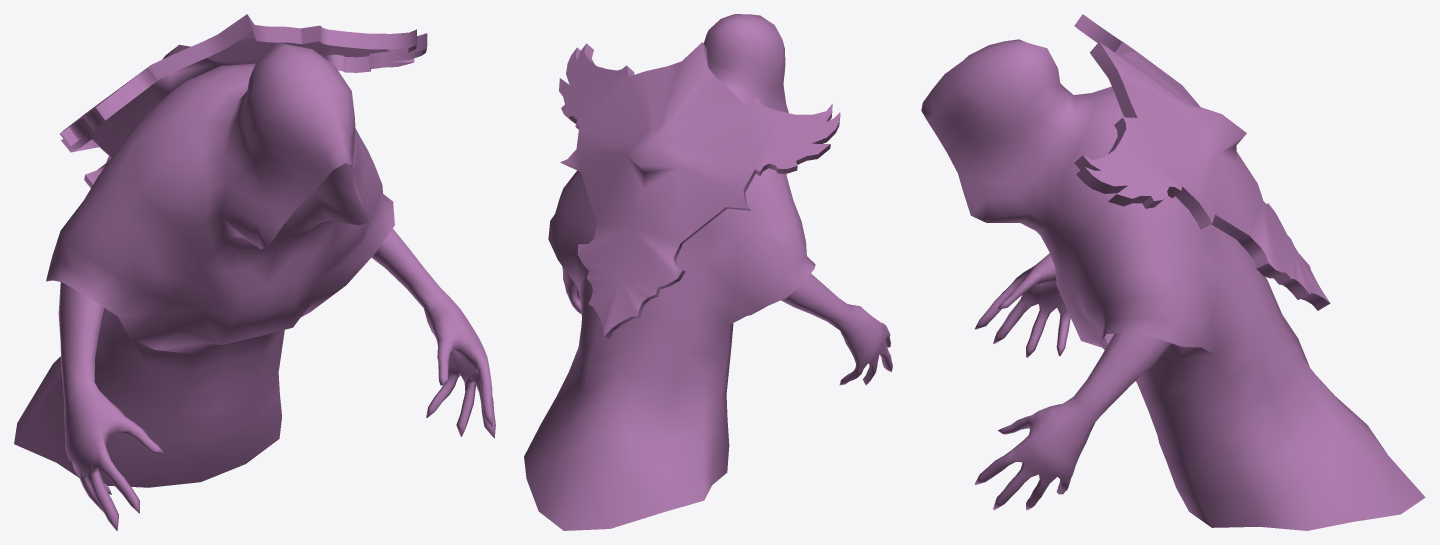
Rendered from E06_Spawner.fbx.
3 views of the same model, side by side, from view 1: azimuth 30°, elevation 25°; view 2: azimuth 150°, elevation 25°; view 3: azimuth 270°, elevation 25° (orthographic). The views are drawn at different scales.
Visible parts, largest first — view 1: Body, Hand, Shield; view 2: Body, Shield, Hand; view 3: Body, Shield, Hand.
Boxes of the visible parts, x1,y1,x2,y2 form: Body: [14, 42, 394, 487]; Hand: [58, 228, 495, 530]; Shield: [60, 14, 427, 187]; Body: [524, 14, 815, 530]; Shield: [559, 42, 840, 338]; Hand: [562, 266, 892, 385]; Body: [921, 39, 1425, 530]; Shield: [1074, 14, 1330, 310]; Hand: [974, 253, 1172, 510].
Size of the model in its own units: 389 by 464 by 465.
